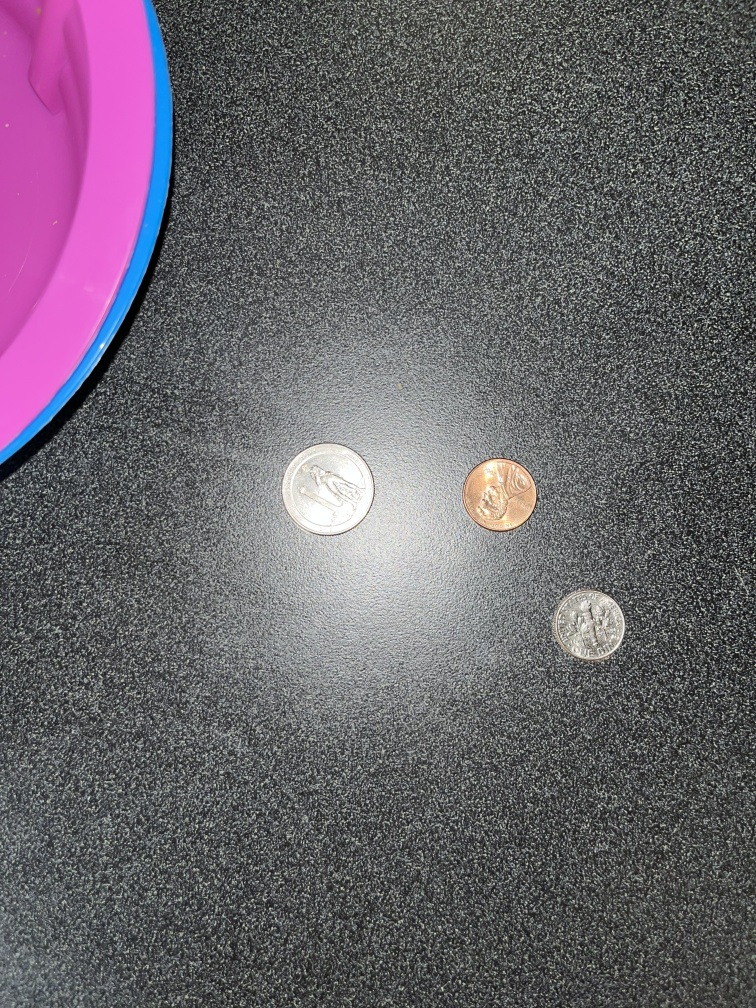dime: (545, 584, 630, 665)
penny: (459, 453, 542, 542)
quarter: (279, 438, 378, 546)
